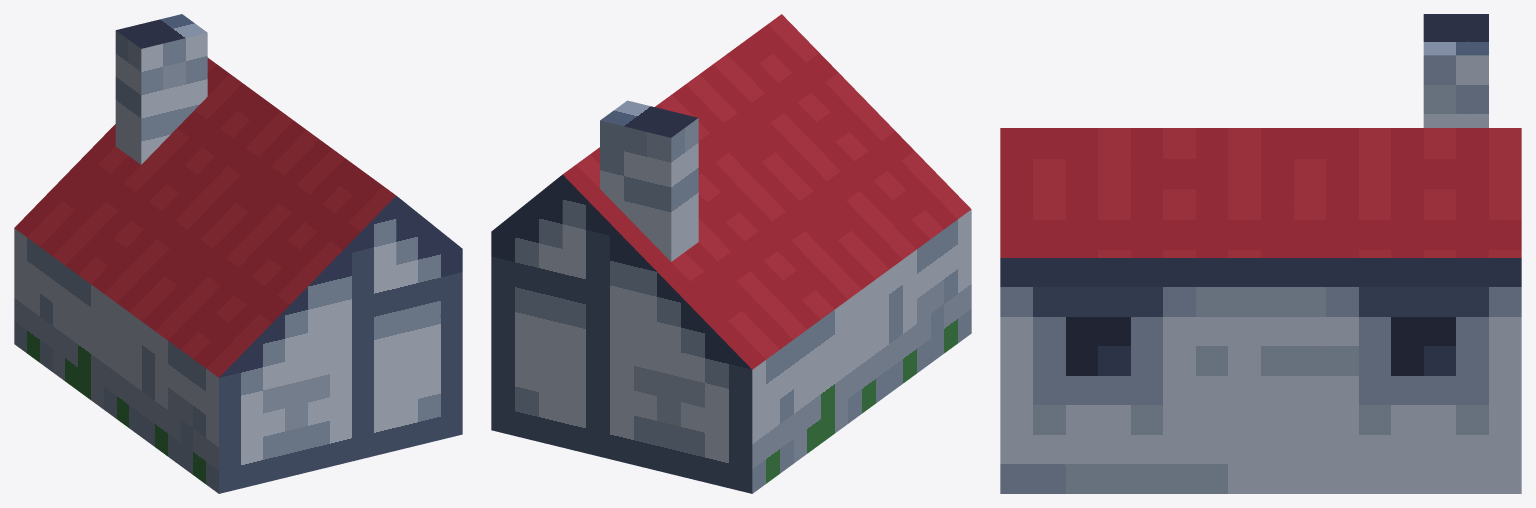
File: block6.gltf
3 views of the same model, side by side, from view 1: azimuth 30°, elevation 25°; view 2: azimuth 150°, elevation 25°; view 3: azimuth 270°, elevation 25° (orthographic). The views are drawn at different scales.
Parts seen in each view (by area): view 1: cube; view 2: cube; view 3: cube.
Part boxes in pixels (x1,y1,x2,y2): cube: [14, 14, 462, 493]; cube: [491, 14, 971, 493]; cube: [1000, 14, 1521, 493].
Bounding box in the file's own units: 0.6875 × 0.8125 × 1.
